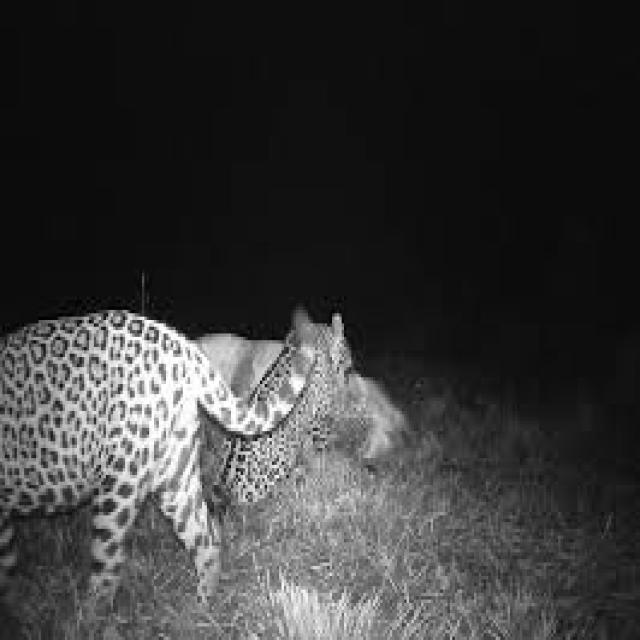Jaguar: (0, 306, 318, 603)
